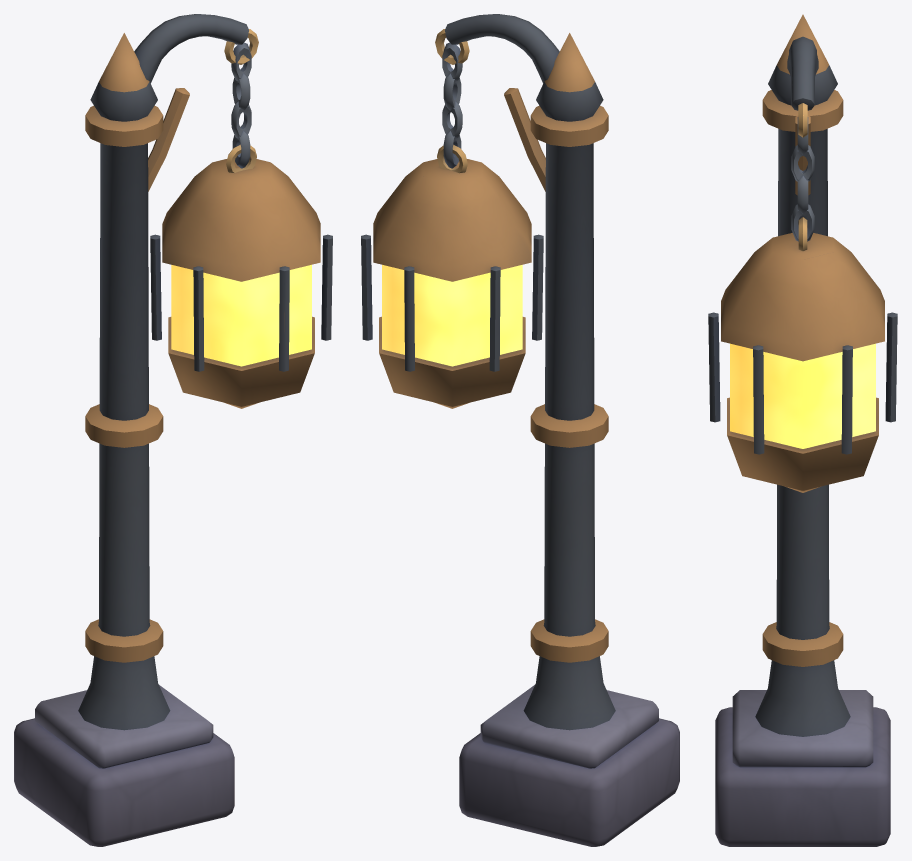
The model's file is EF_P06_EmberLantern.fbx.
3 renders of one model, left to right at view 1: azimuth 30°, elevation 25°; view 2: azimuth 150°, elevation 25°; view 3: azimuth 270°, elevation 25°, orthographic. The views are drawn at different scales.
Parts seen in each view (by area): view 1: Post, Lantern, Chain; view 2: Post, Lantern, Chain; view 3: Post, Lantern, Chain.
Boxes of the visible parts, <box> form: Post: <box>14,14,258,846</box>; Lantern: <box>150,144,332,408</box>; Chain: <box>231,42,251,168</box>; Post: <box>435,14,679,846</box>; Lantern: <box>361,144,543,408</box>; Chain: <box>442,42,462,168</box>; Post: <box>715,14,890,846</box>; Lantern: <box>708,217,897,492</box>; Chain: <box>791,117,814,241</box>.
Bounding box in the file's own units: 0.92 × 2.53 × 0.5394.
